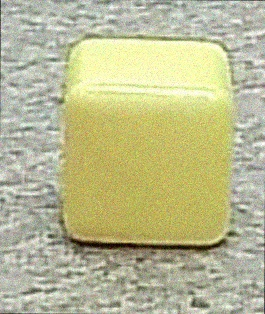yellow_cube: (39, 23, 246, 255)
